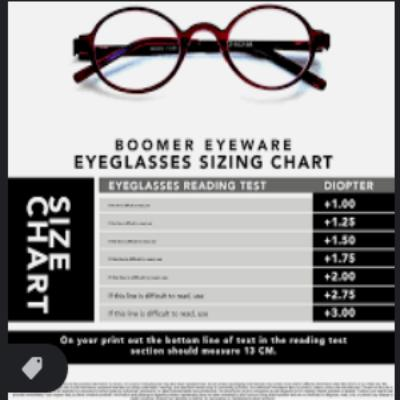glasses: (64, 4, 341, 107)
